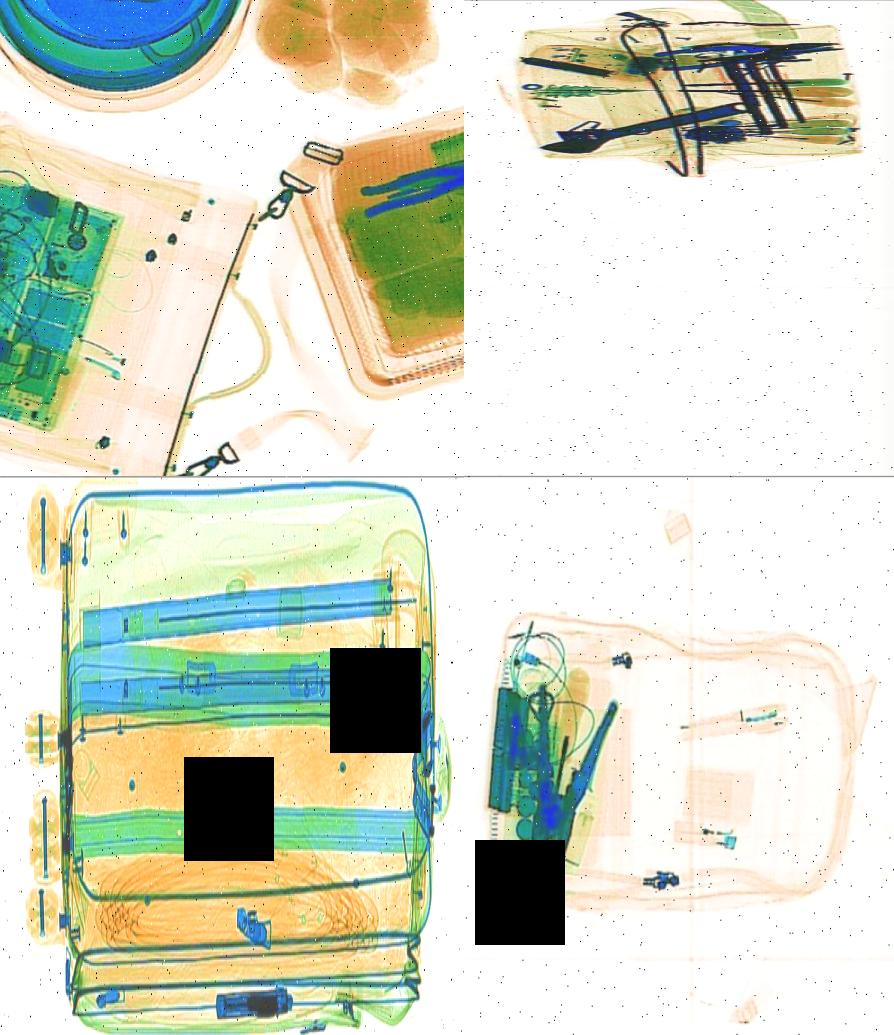Gun: (215, 980, 294, 1016)
Pliers: (509, 680, 618, 871), (353, 134, 464, 219), (694, 33, 843, 64)
Wrench: (539, 91, 755, 161)
